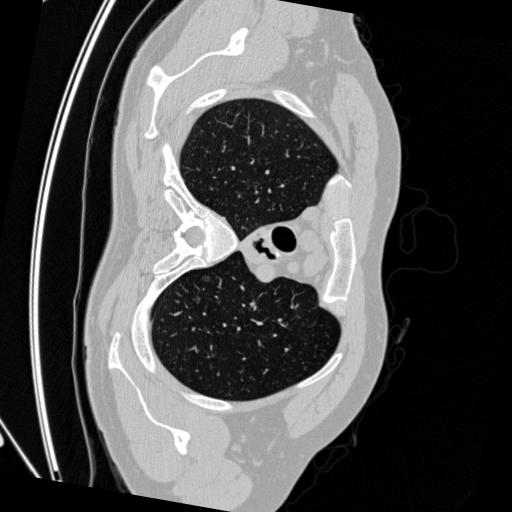nodule: (200, 271, 214, 285)
